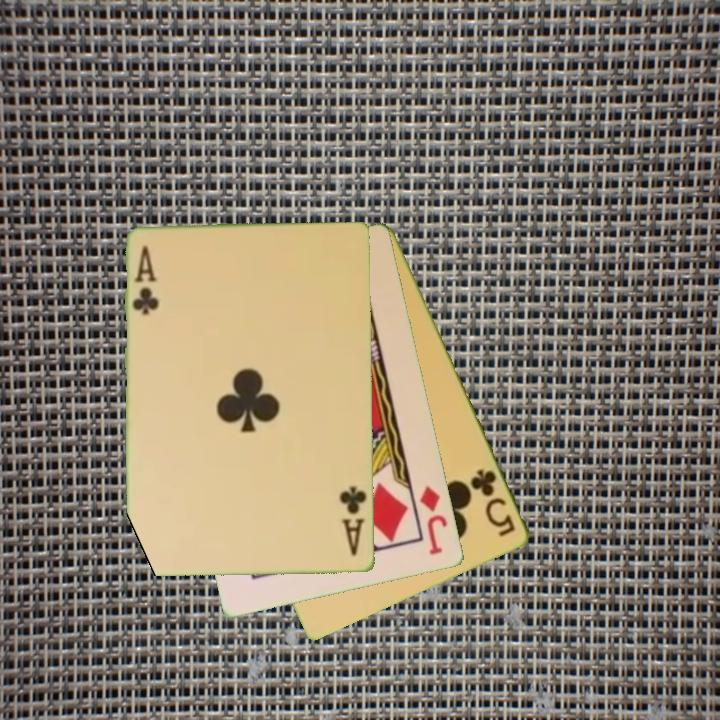5c: (467, 465, 519, 540)
Ac: (337, 483, 370, 559), (130, 242, 162, 318)
Jd: (416, 482, 451, 558)
